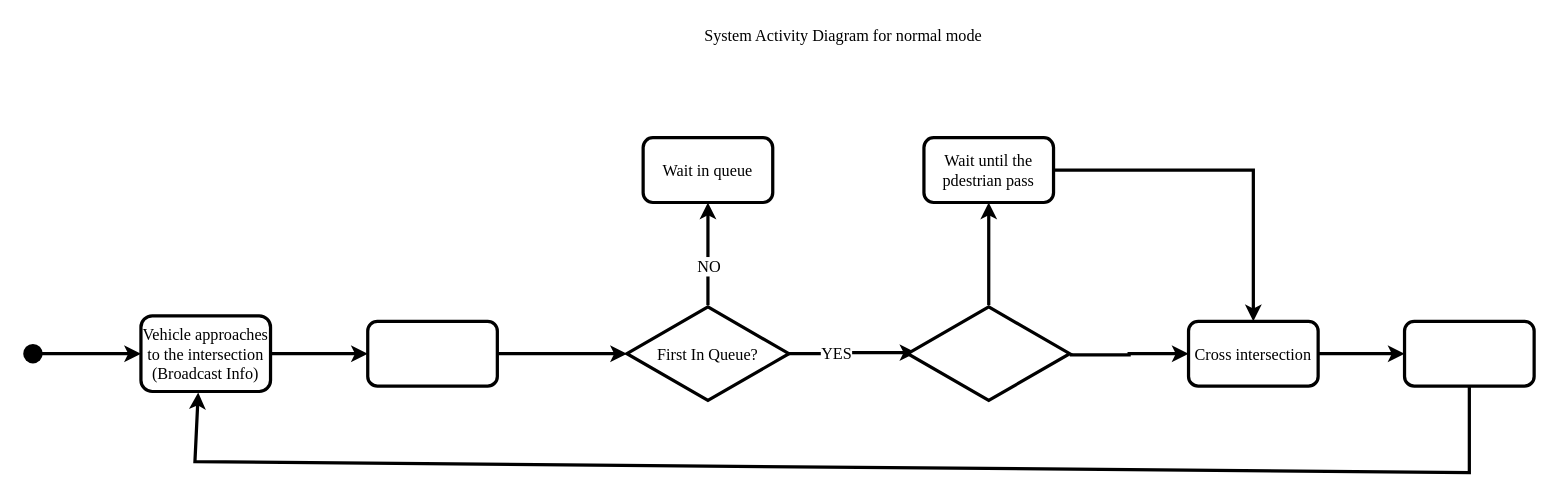
The diagram is 1554 pixels wide and 501 high, and some of its shapes have lost their labels. Each missing label, with the box of its shape:
Exit intersection: (1402, 319, 1535, 387)
Pedestrian Present?: (906, 303, 1071, 403)
Receives Other Vehicles Info: (366, 319, 498, 387)
